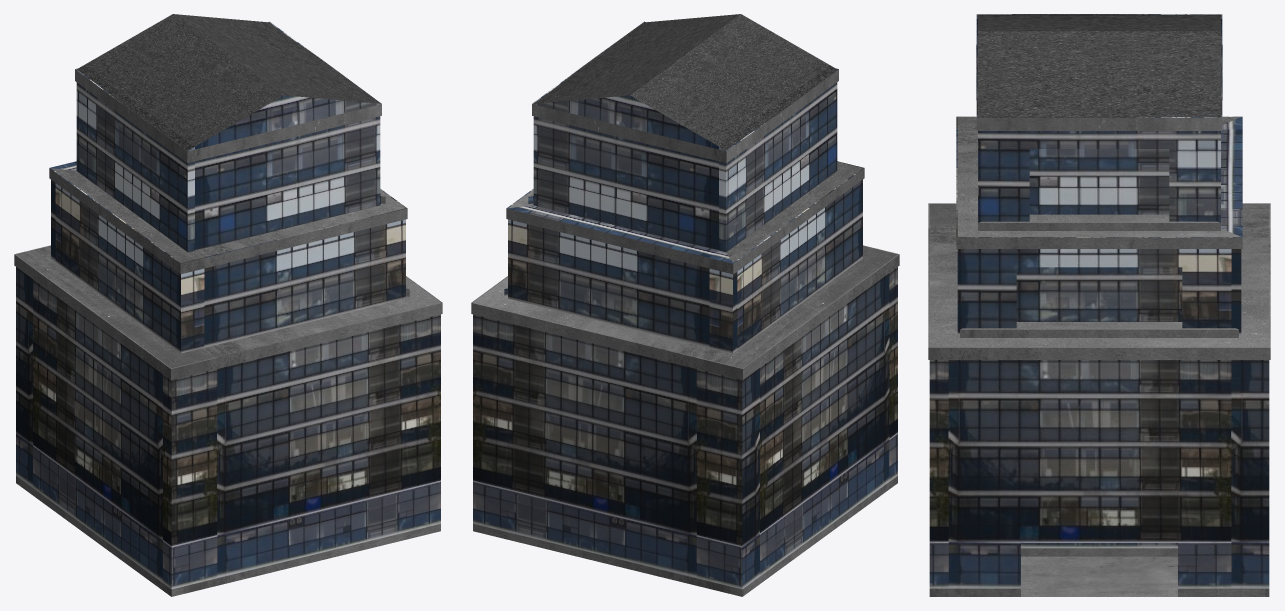
The model's file is TOWER_11.fbx.
The picture shows the model from 3 angles, left to right: view 1: azimuth 30°, elevation 25°; view 2: azimuth 150°, elevation 25°; view 3: azimuth 270°, elevation 25°; orthographic projection. The views are drawn at different scales.
Visible parts, largest first — view 1: TOWER_11; view 2: TOWER_11; view 3: TOWER_11.
Part boxes in pixels (left/top/right/bottom): TOWER_11: left=14, top=14, right=442, bottom=596; TOWER_11: left=471, top=14, right=899, bottom=596; TOWER_11: left=928, top=14, right=1270, bottom=596.
Size of the model in its own units: 2952 by 4696 by 2952.
